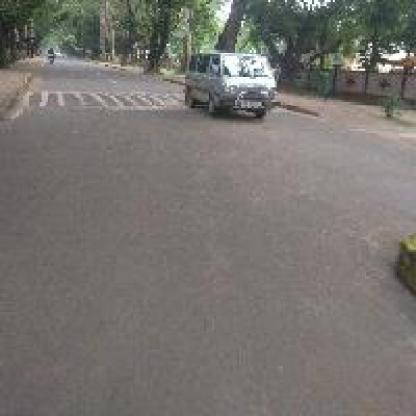Speed Bump: (13, 88, 183, 112)
